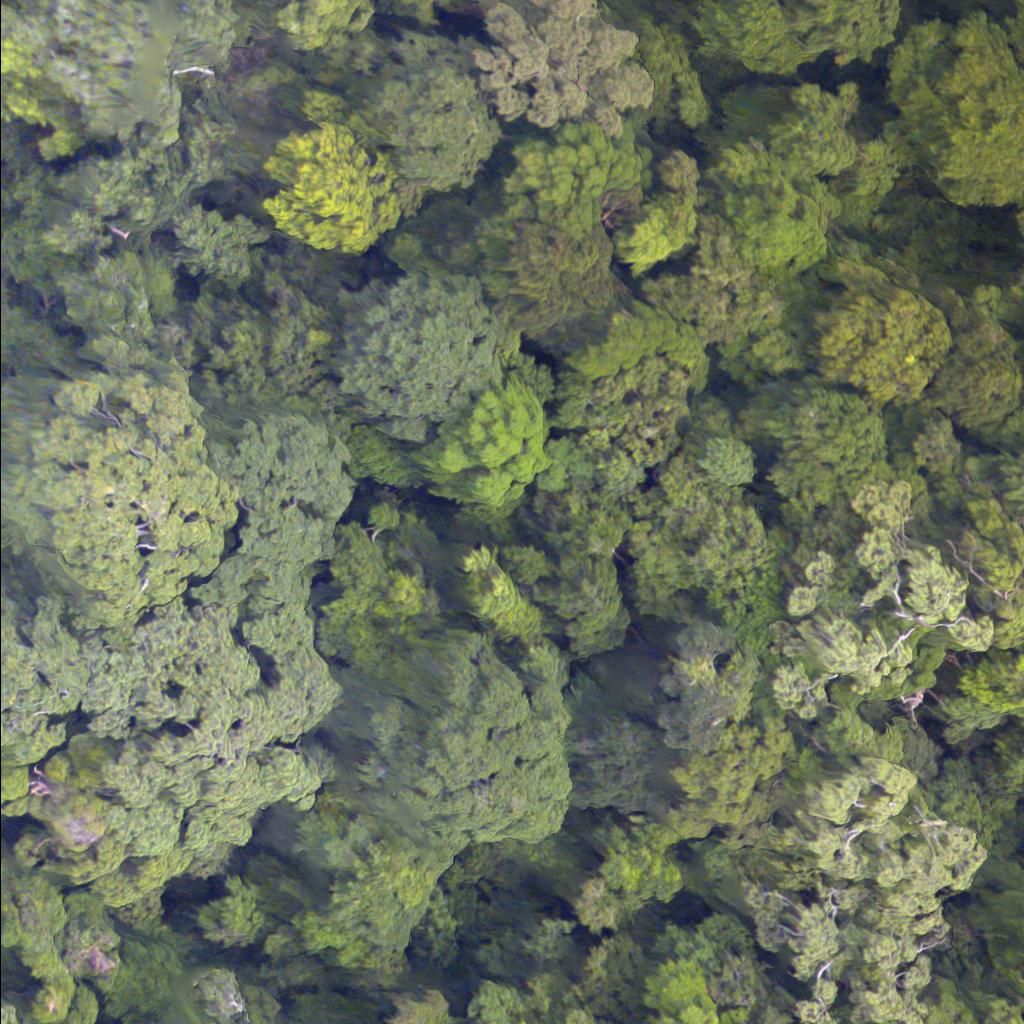crown: (759, 754, 1002, 1022)
